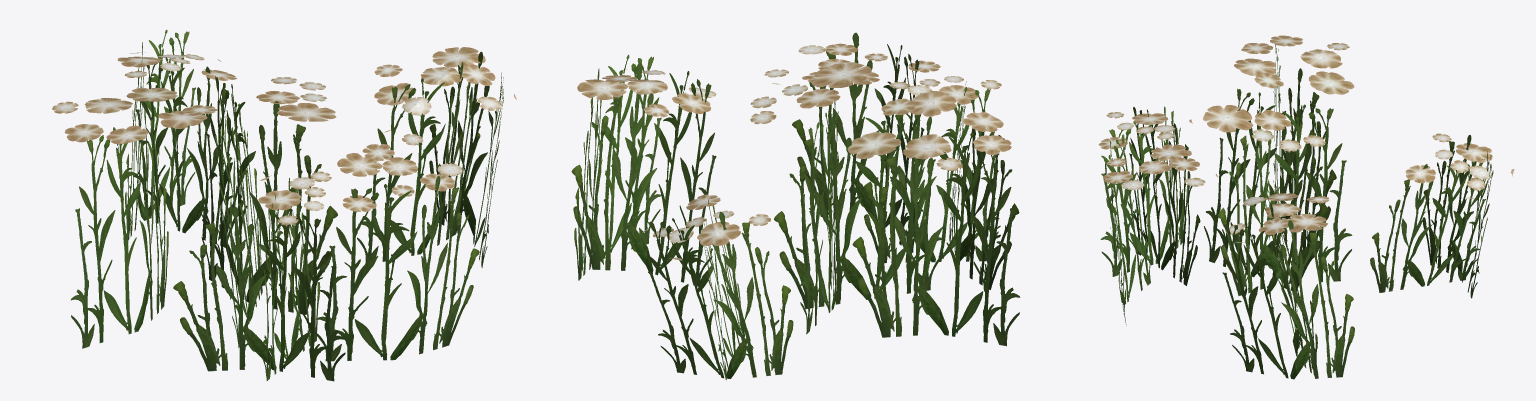
File: mesh_1005_sszg_zhiwu02.FBX
3 views of the same model, side by side, from view 1: azimuth 30°, elevation 25°; view 2: azimuth 150°, elevation 25°; view 3: azimuth 270°, elevation 25° (orthographic). The views are drawn at different scales.
Parts seen in each view (by area): view 1: mesh_1005_sszg_zhiwu02; view 2: mesh_1005_sszg_zhiwu02; view 3: mesh_1005_sszg_zhiwu02.
Part boxes in pixels (x1,y1,x2,y2): mesh_1005_sszg_zhiwu02: (52,29,516,381); mesh_1005_sszg_zhiwu02: (571,32,1020,380); mesh_1005_sszg_zhiwu02: (1098,35,1514,379).
Size of the model in its own units: 317 by 144 by 309.
